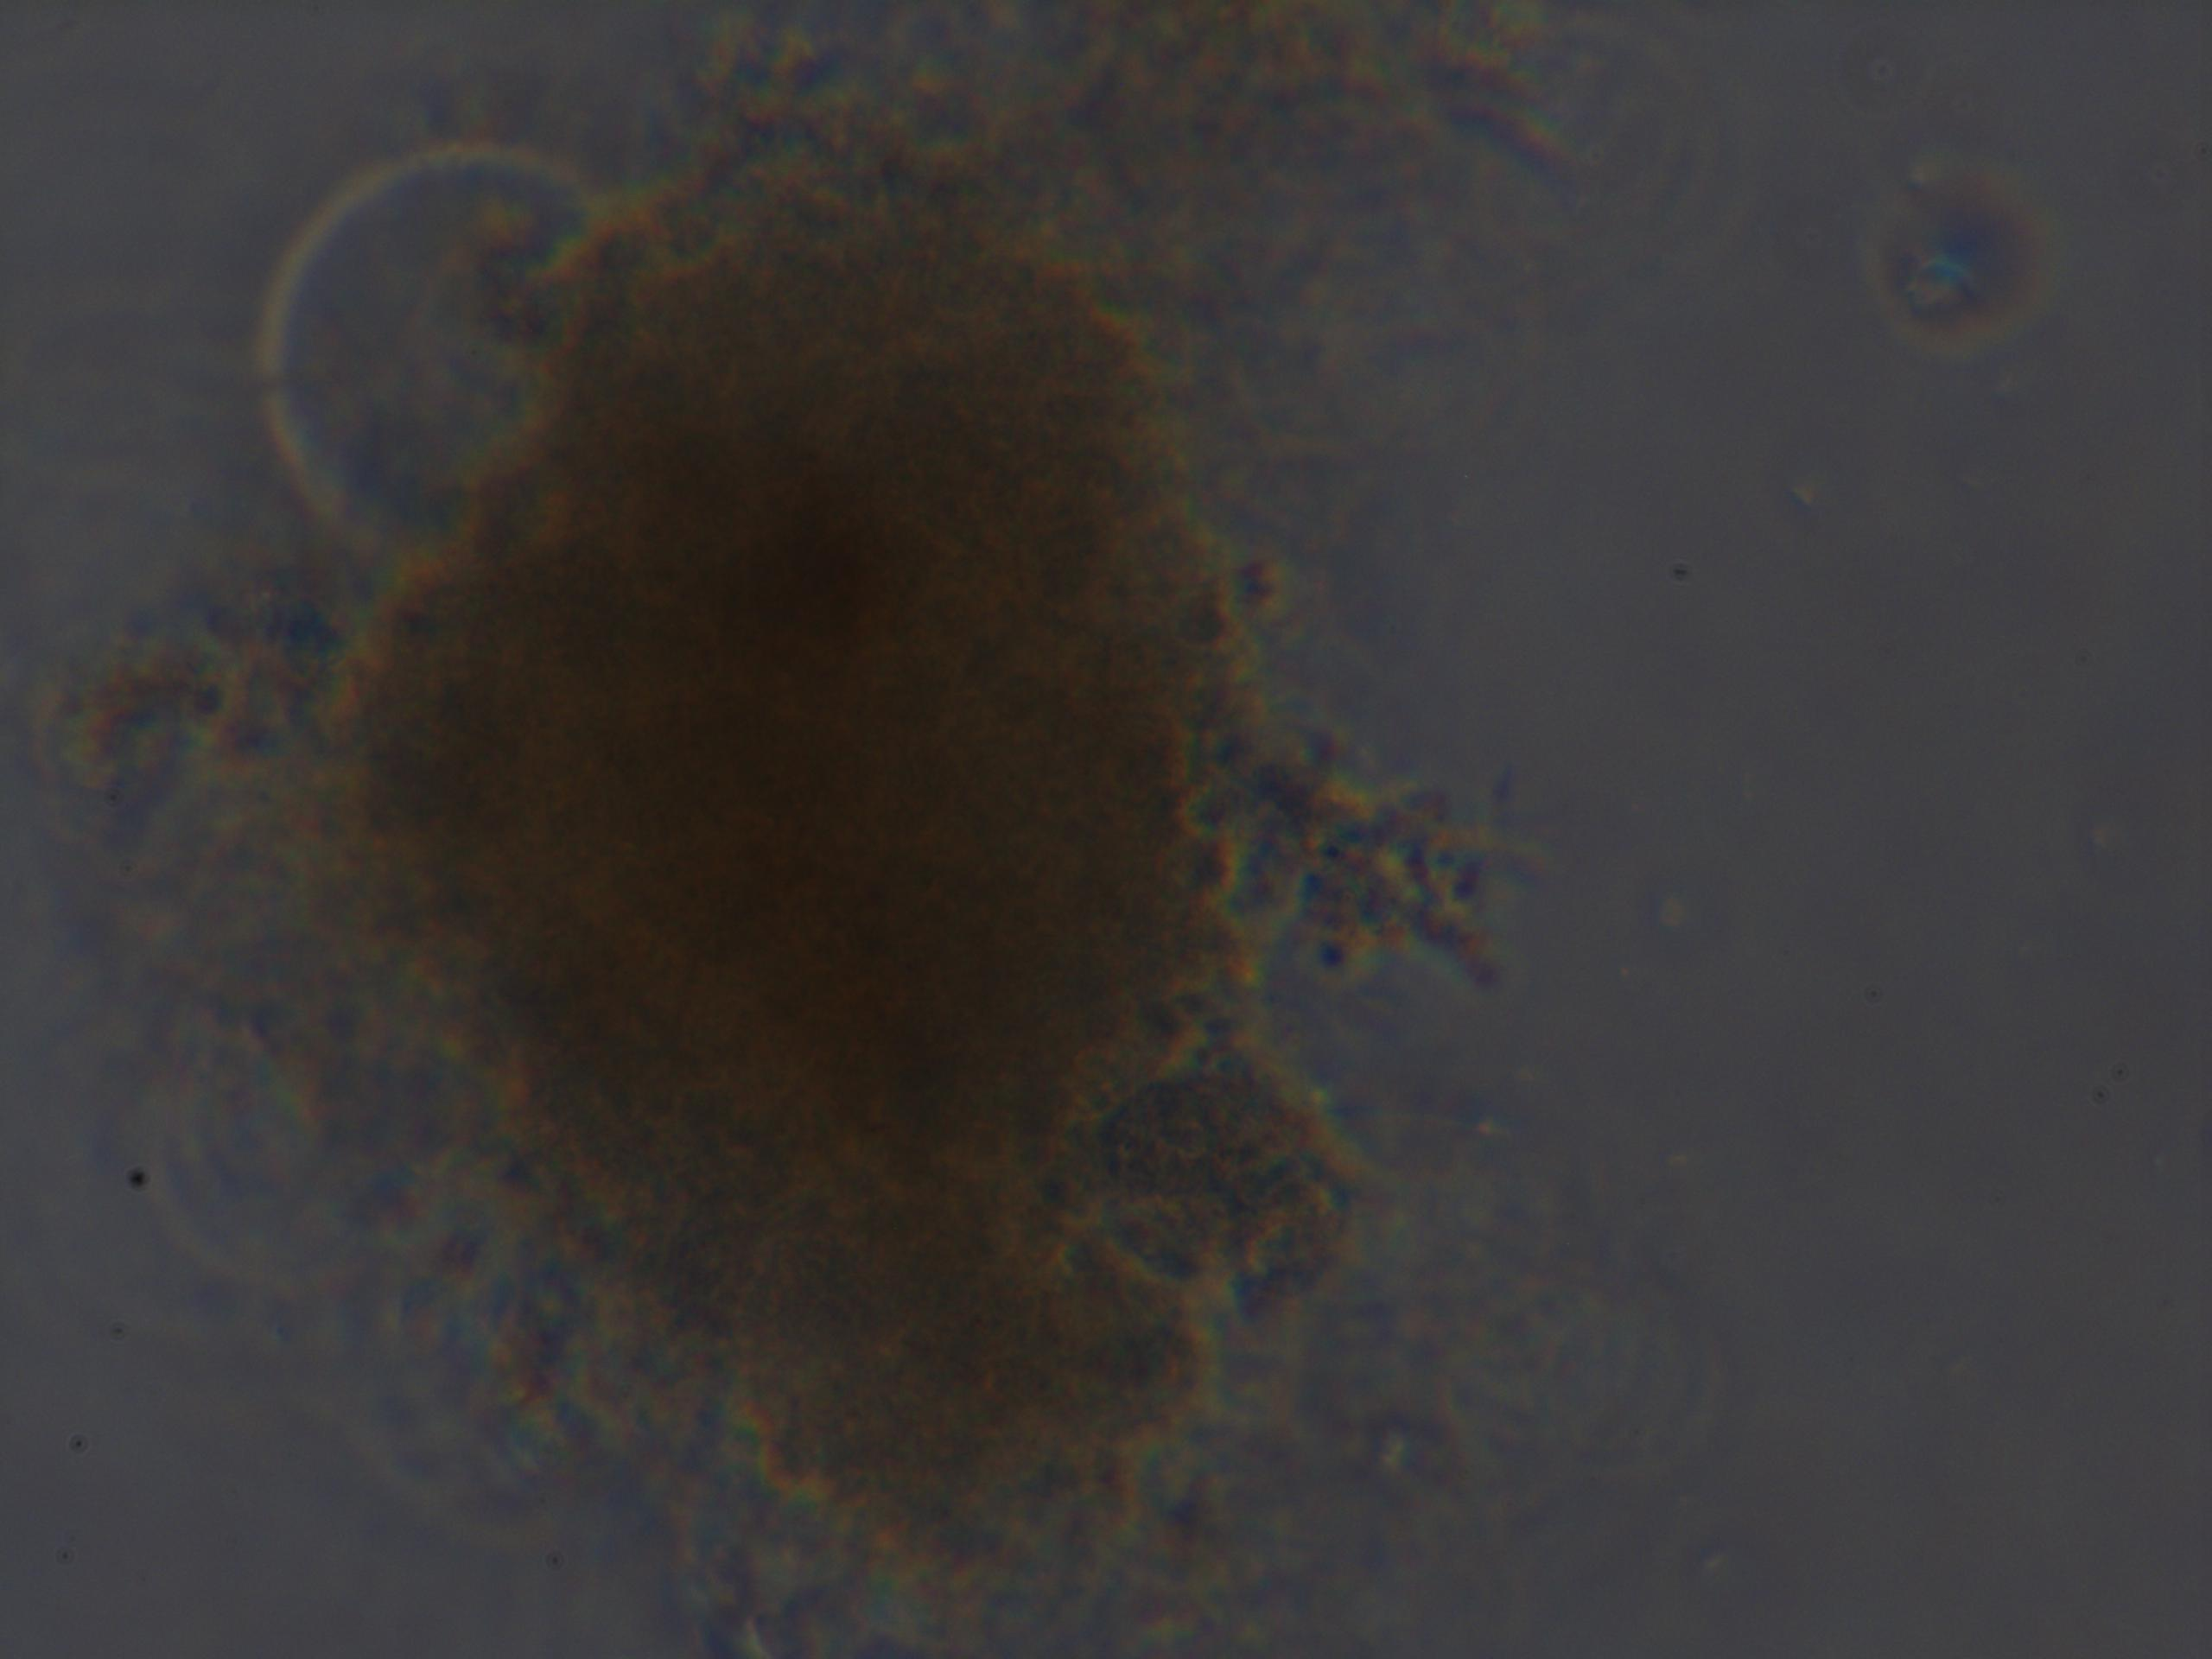spherical_floc: (310, 108, 1418, 1586)
